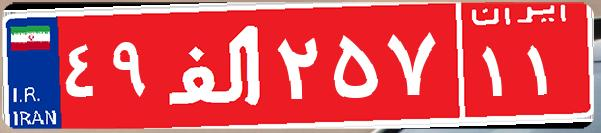1: (475, 38, 525, 113), (525, 38, 570, 115)
2: (273, 28, 330, 110)
4: (57, 26, 110, 107)
5: (330, 28, 385, 110)
7: (385, 28, 445, 110)
9: (110, 28, 158, 105)
الف: (158, 15, 273, 115)
